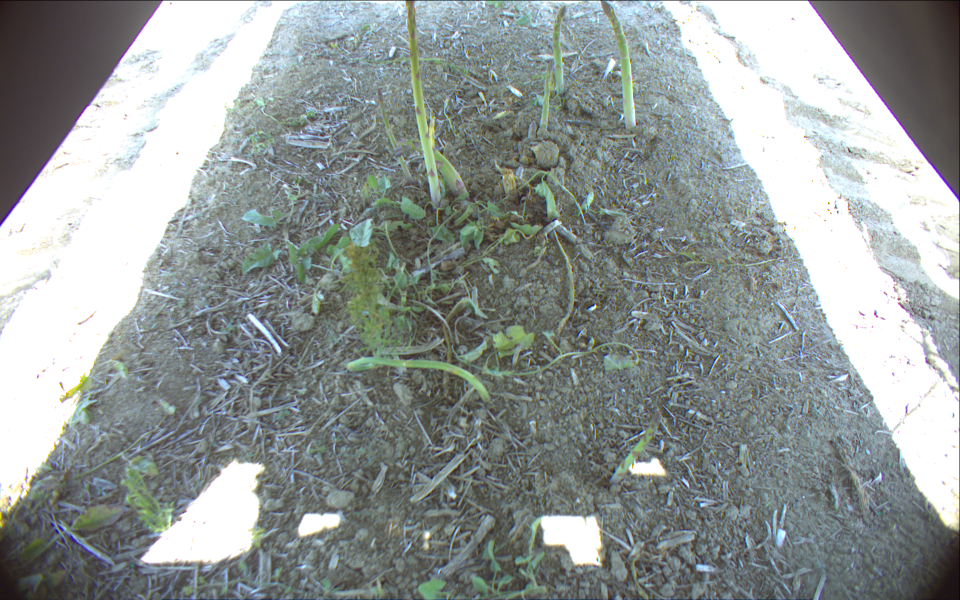aspa: (404, 1, 444, 205), (342, 354, 491, 403), (600, 1, 638, 133), (607, 409, 662, 486), (375, 88, 413, 180), (428, 110, 467, 197), (554, 5, 568, 103), (538, 61, 553, 132)
